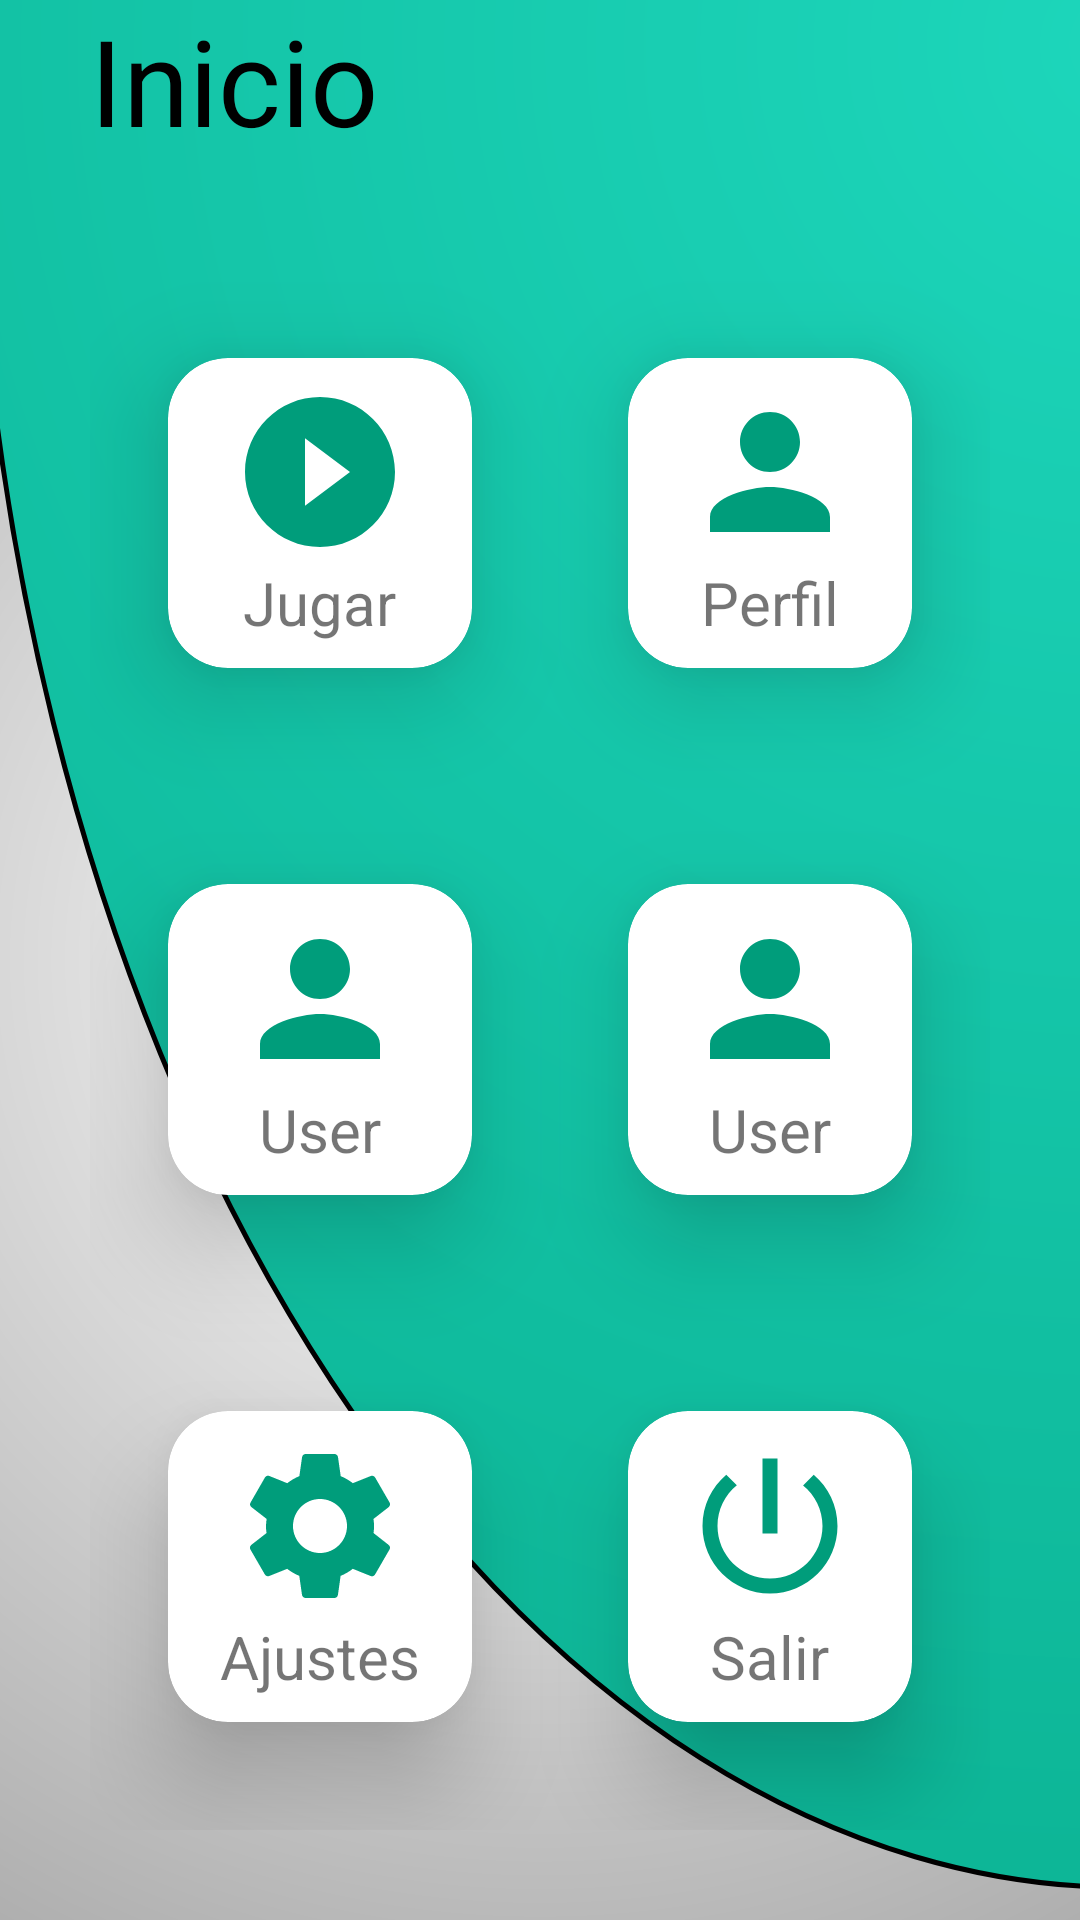

Icon click points for this 1080px×1920px phone screenshot, format (x=x, y=y):
profile: (x=770, y=472), (x=320, y=999), (x=770, y=999)
